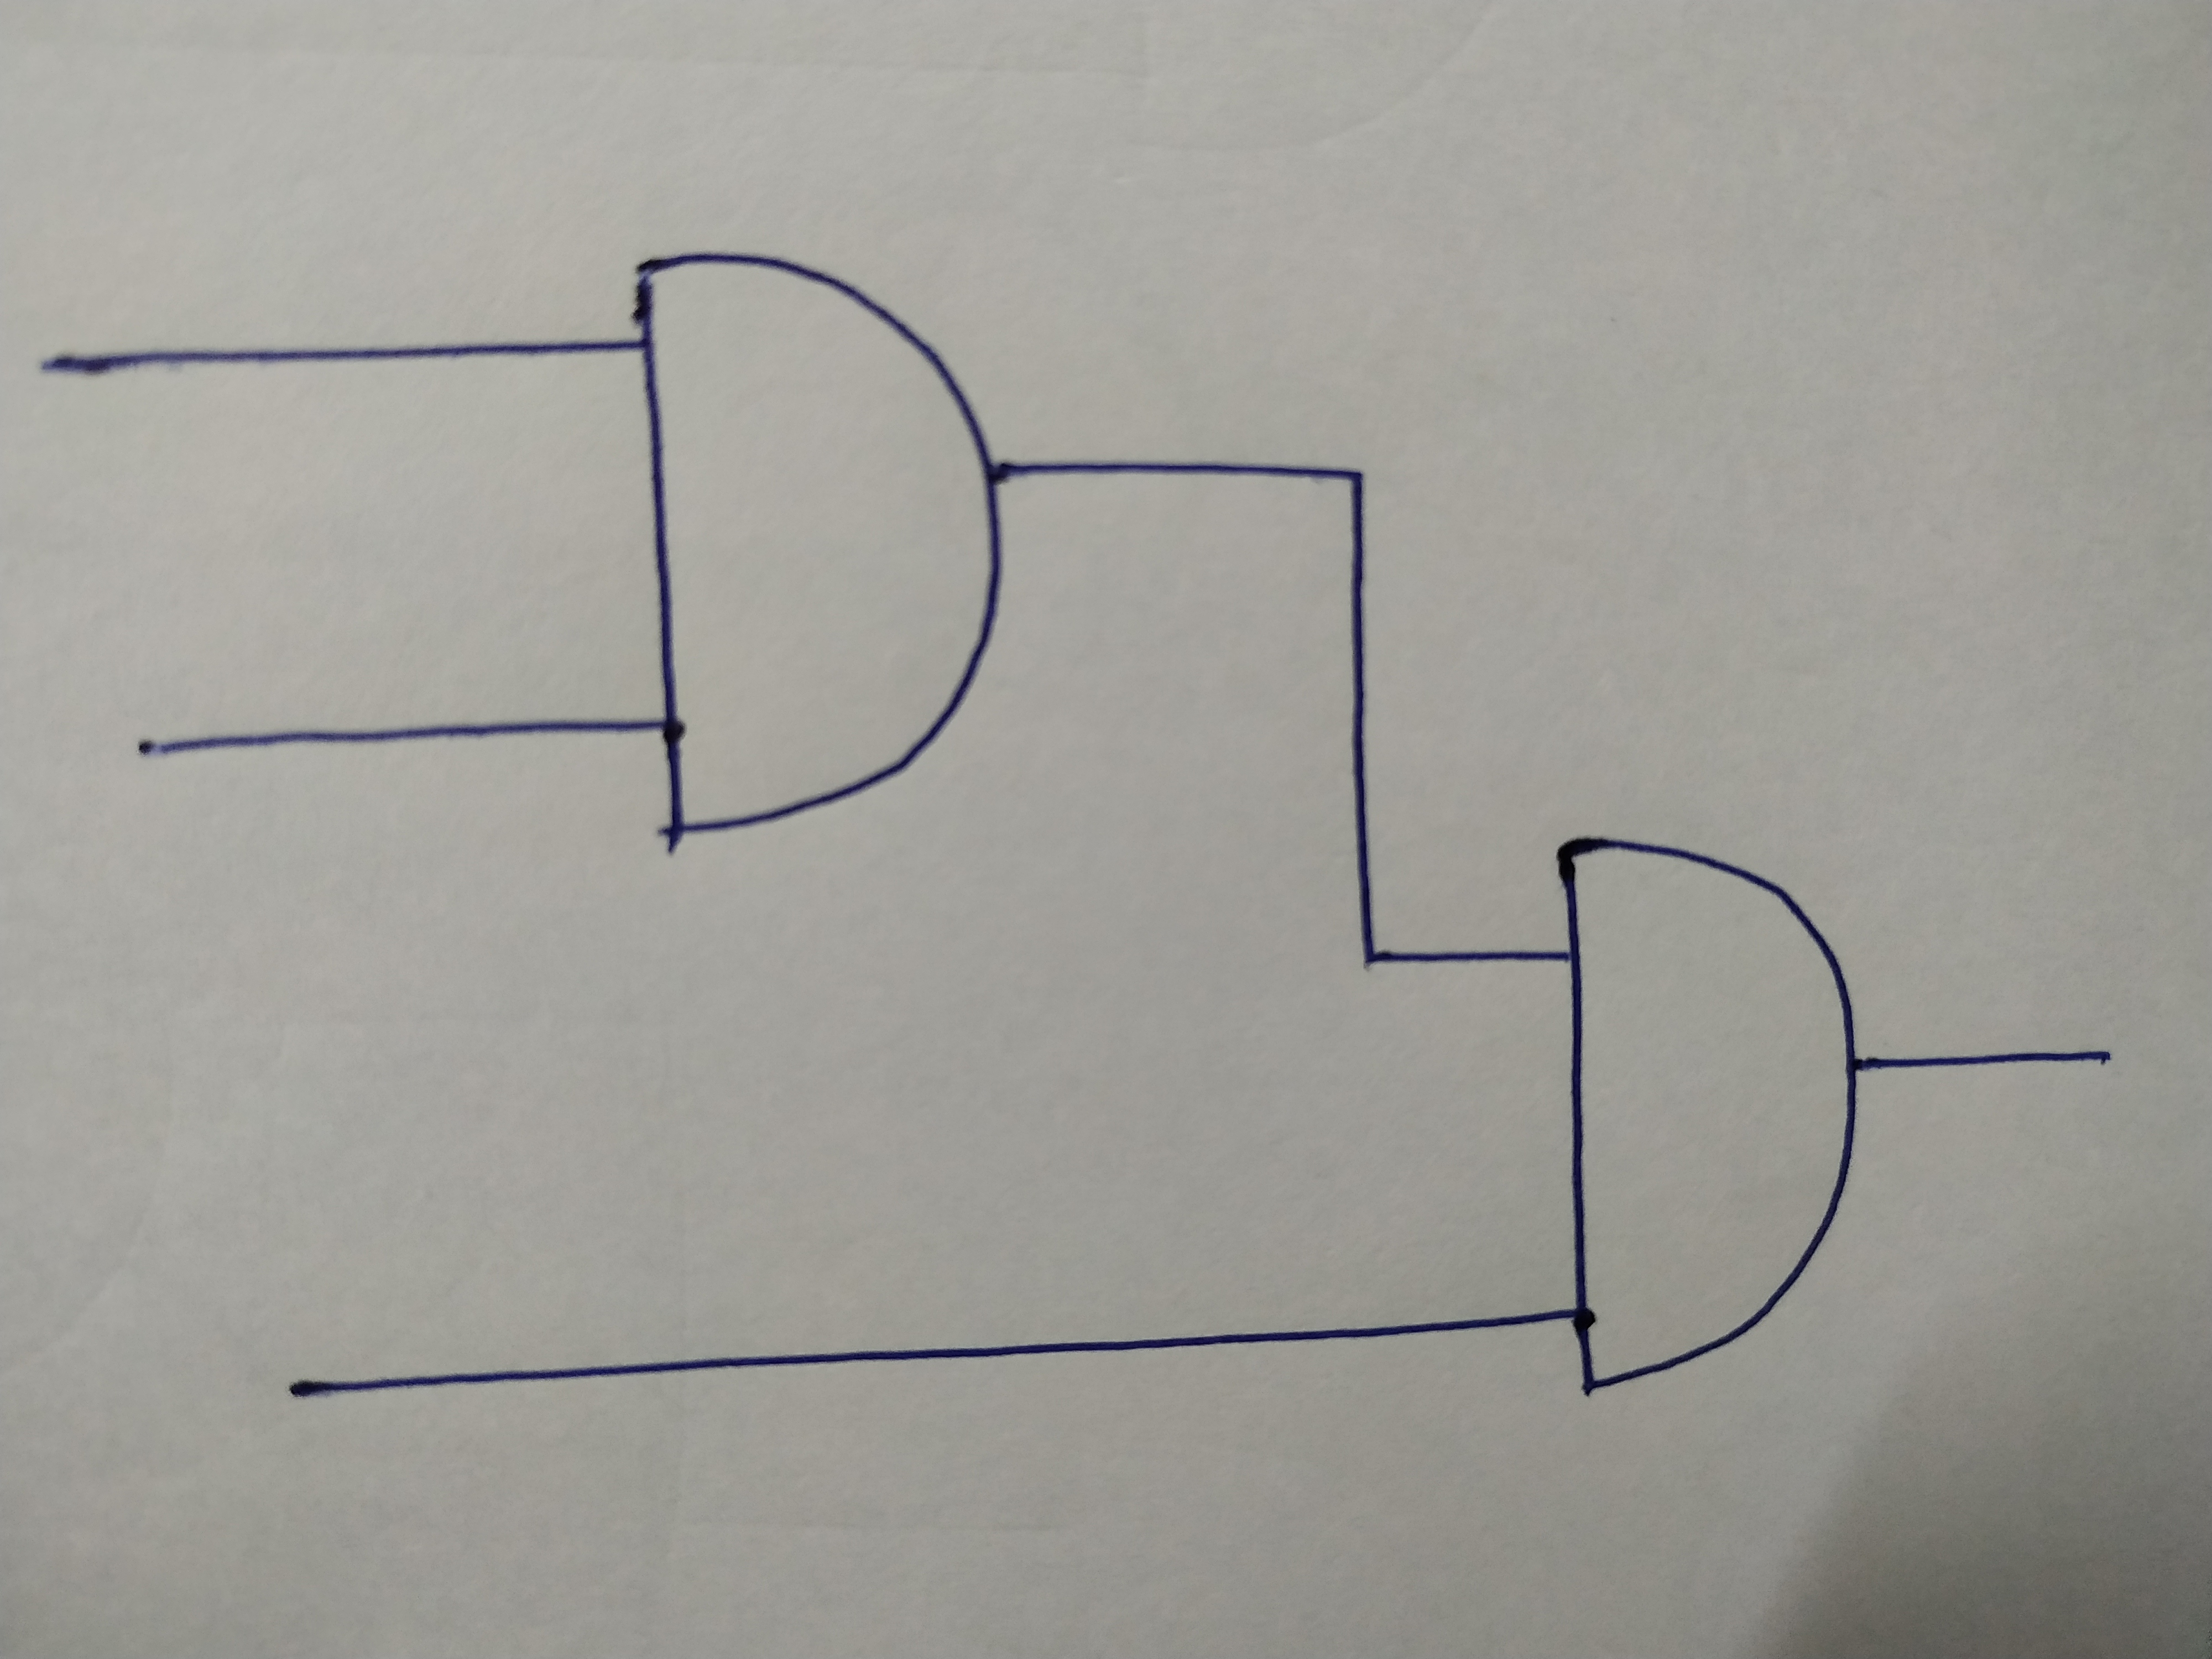and: (629, 244, 1007, 838), (1555, 836, 1858, 1394)
